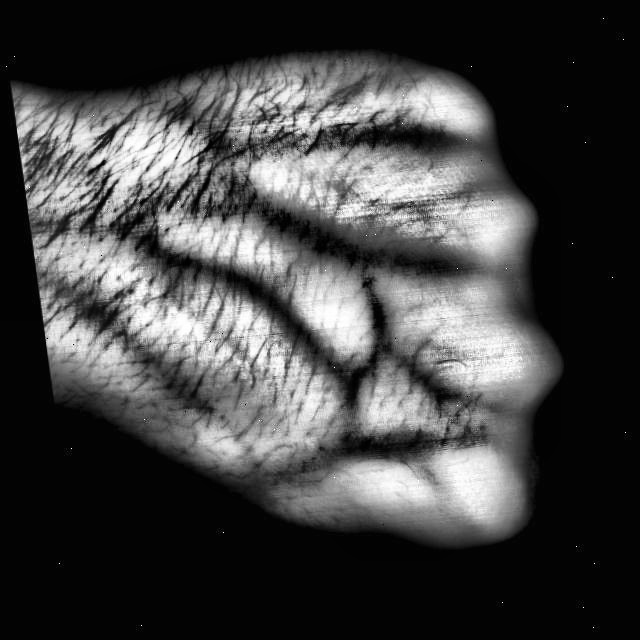Vein: (193, 170, 374, 285)
